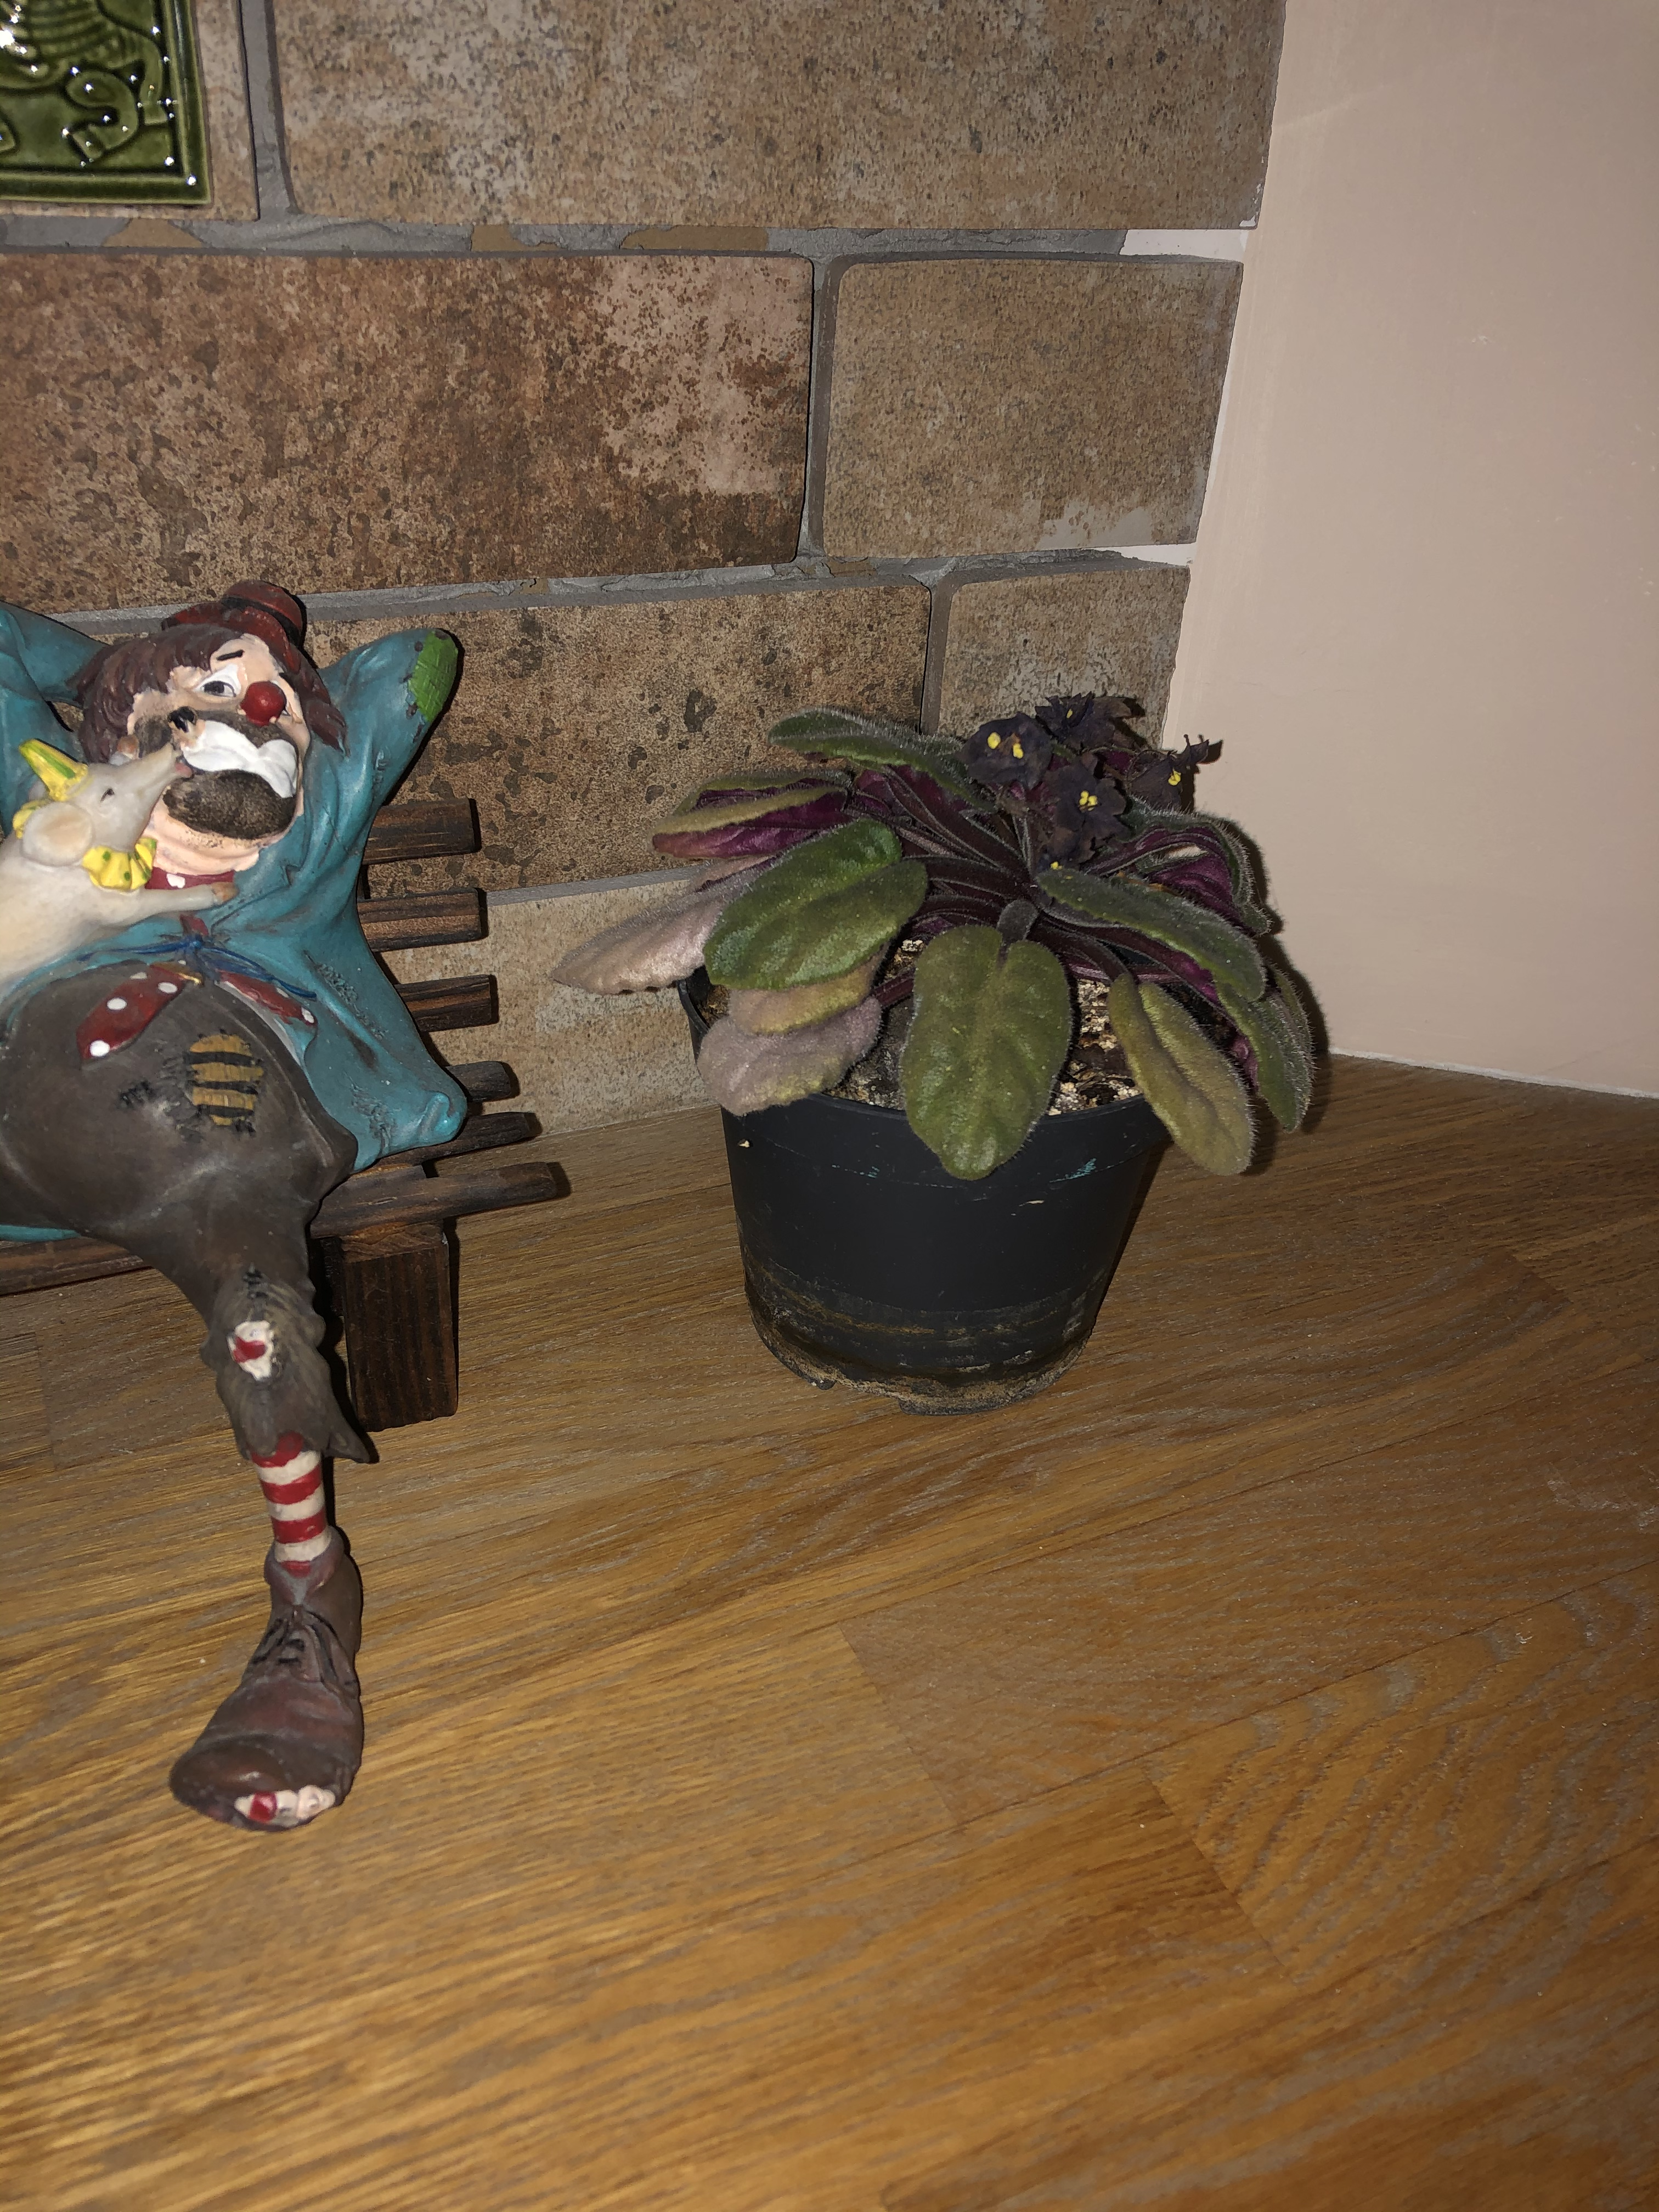ignore: (577, 617, 1354, 1188)
